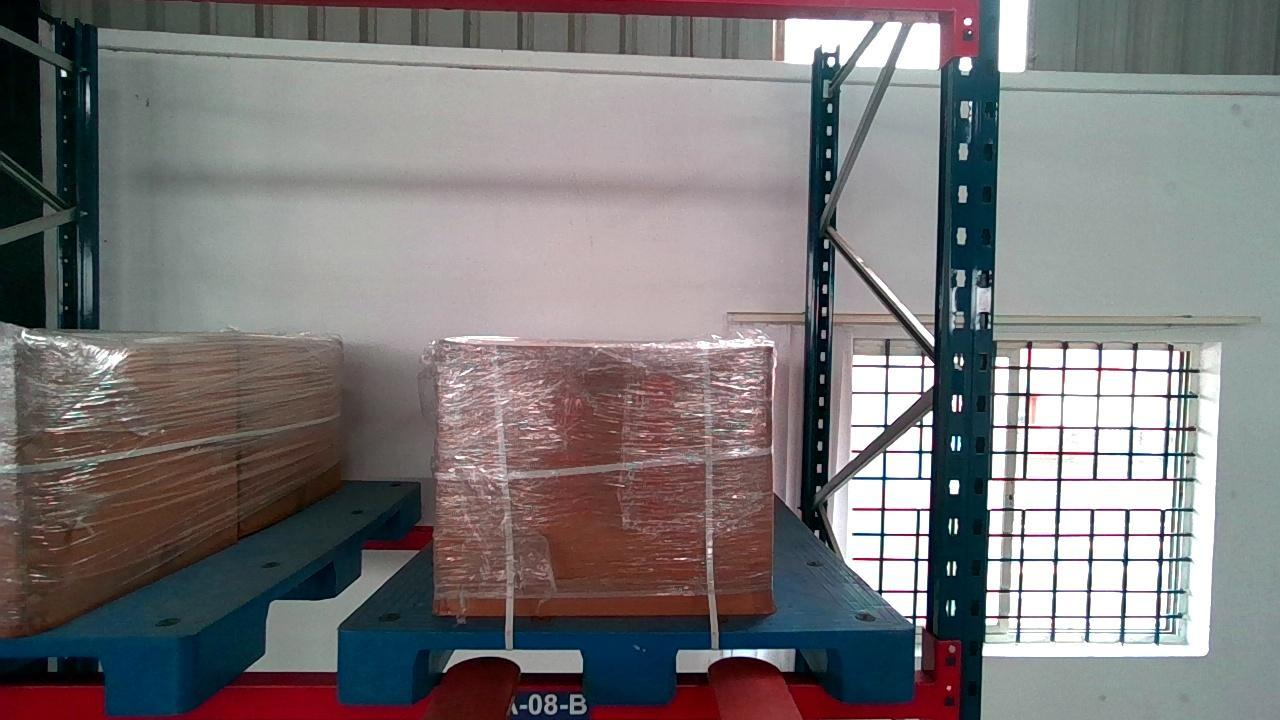h_rack: (2, 678, 932, 720)
small_pallet: (337, 625, 913, 704)
